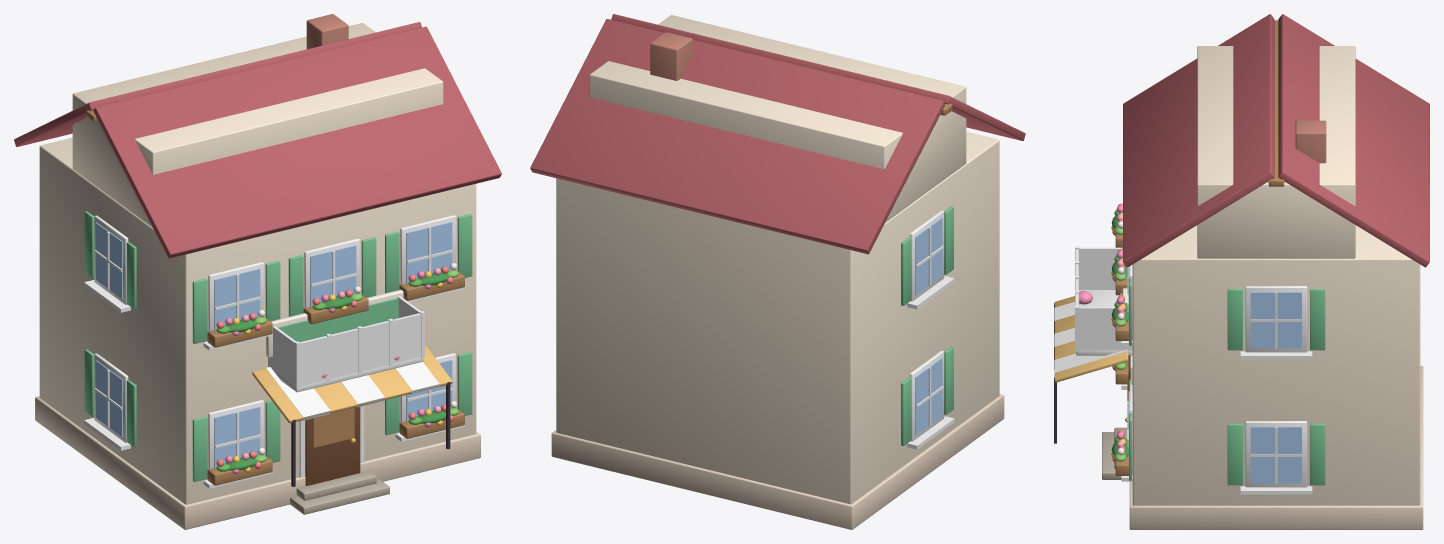
File: house_cream.glb
The picture shows the model from 3 angles, left to right: view 1: azimuth 30°, elevation 25°; view 2: azimuth 150°, elevation 25°; view 3: azimuth 270°, elevation 25°; orthographic projection. The views are drawn at different scales.
Parts seen in each view (by area): view 1: house_cream; view 2: house_cream; view 3: house_cream.
Boxes of the visible parts, x1=… form: house_cream: x1=14, y1=14, x2=501, y2=529; house_cream: x1=530, y1=14, x2=1025, y2=529; house_cream: x1=1054, y1=14, x2=1429, y2=529.
Size of the model in its own units: 7.4 by 8.05 by 7.32.
